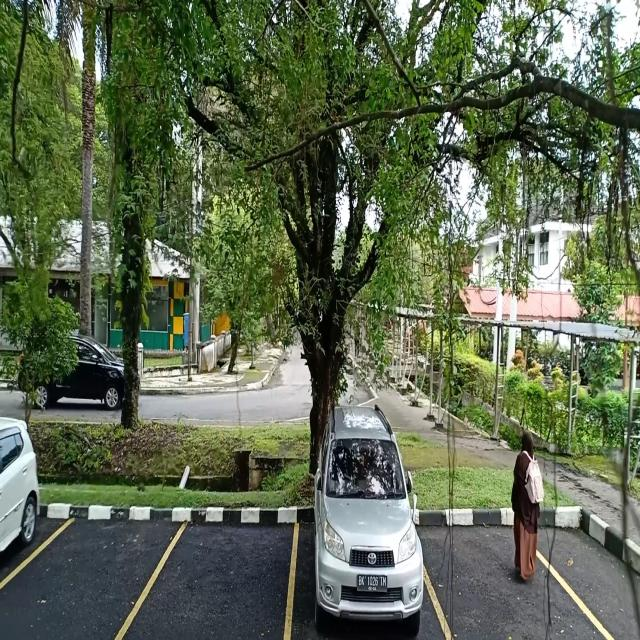empty: (156, 493, 296, 640), (9, 501, 155, 640), (432, 499, 571, 640)
occupied: (289, 488, 434, 640)
